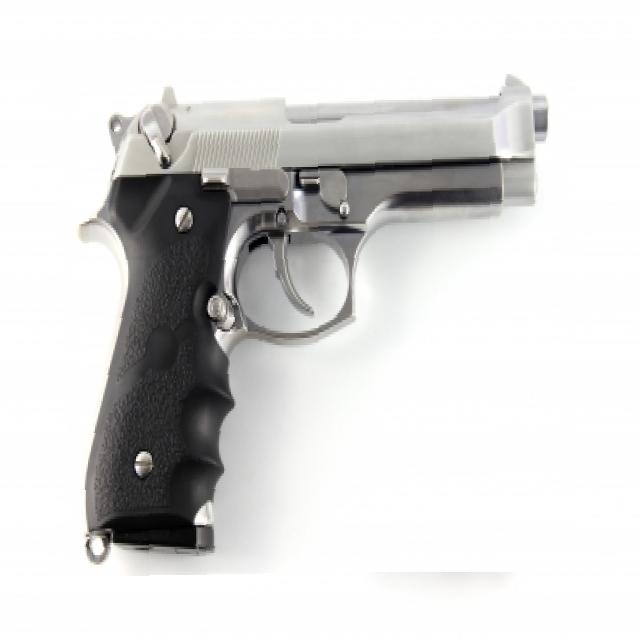gun: (63, 57, 574, 574)
